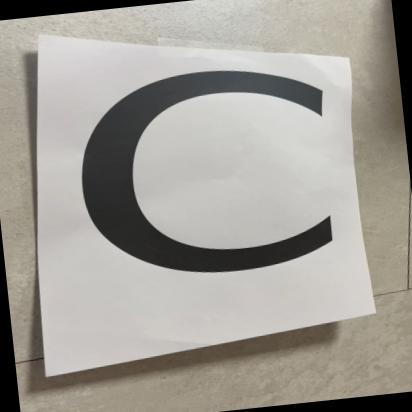seat: (36, 10, 385, 348)
